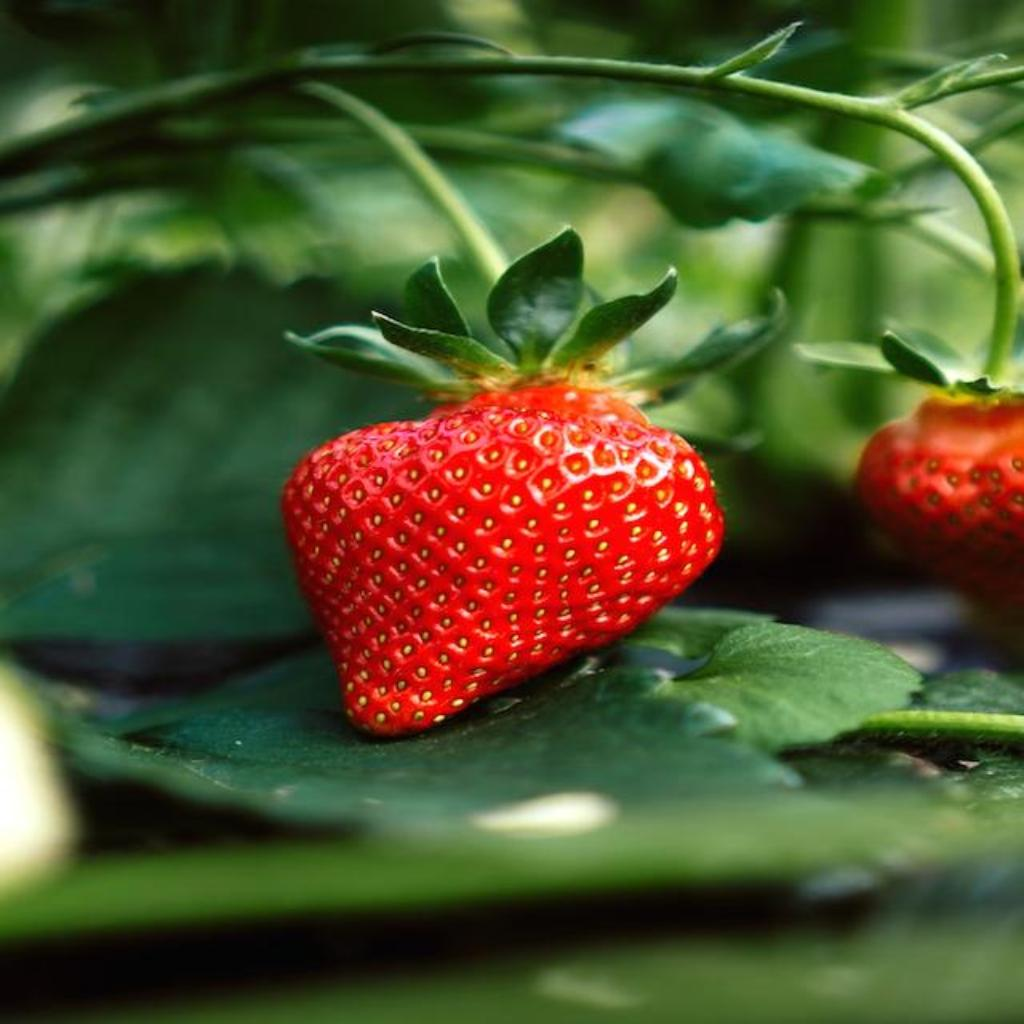strawberry: (282, 384, 724, 735), (856, 396, 1024, 605)
